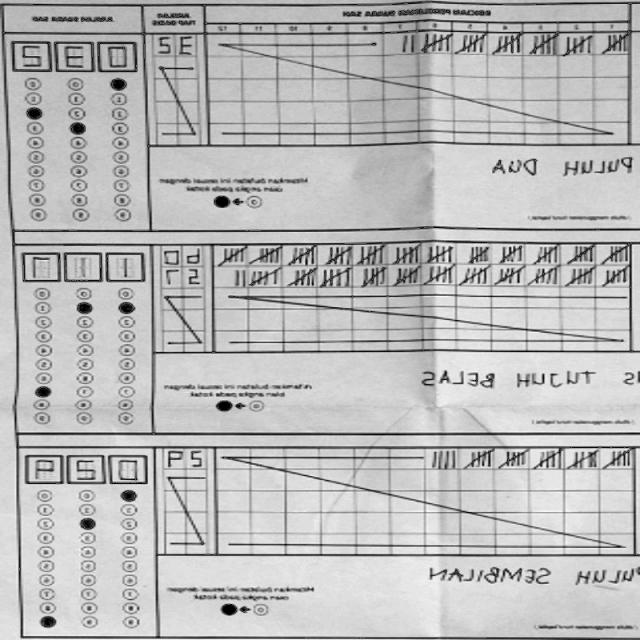Suara: (3, 34, 142, 76), (15, 244, 154, 286), (17, 447, 155, 489)
